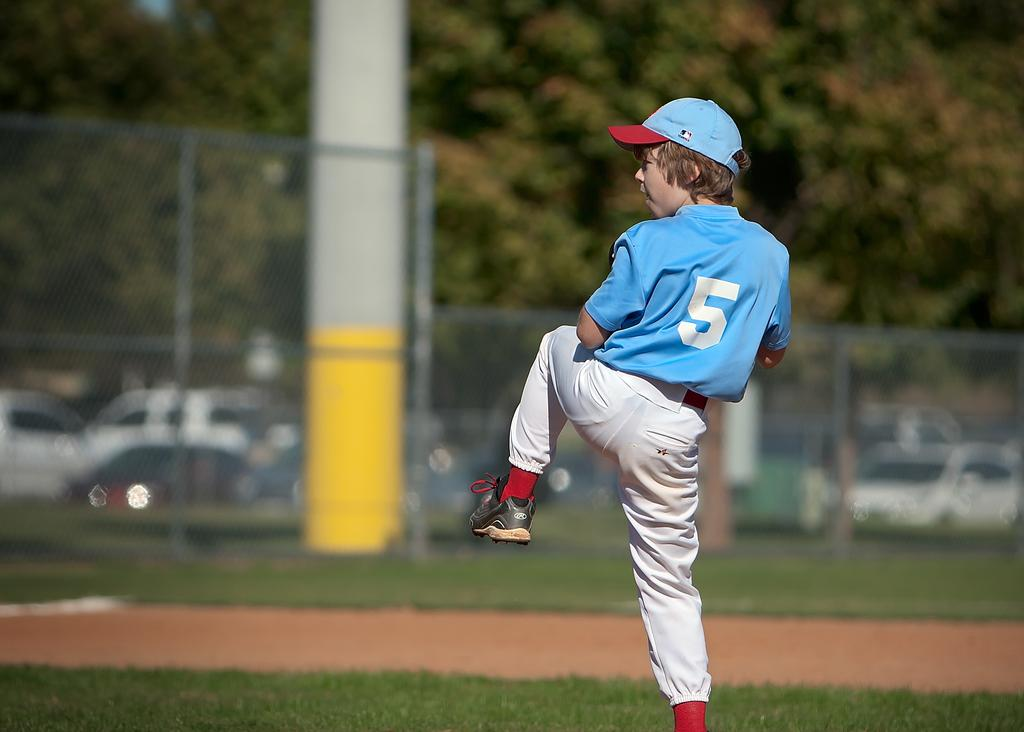Hat: (606, 94, 744, 179)
